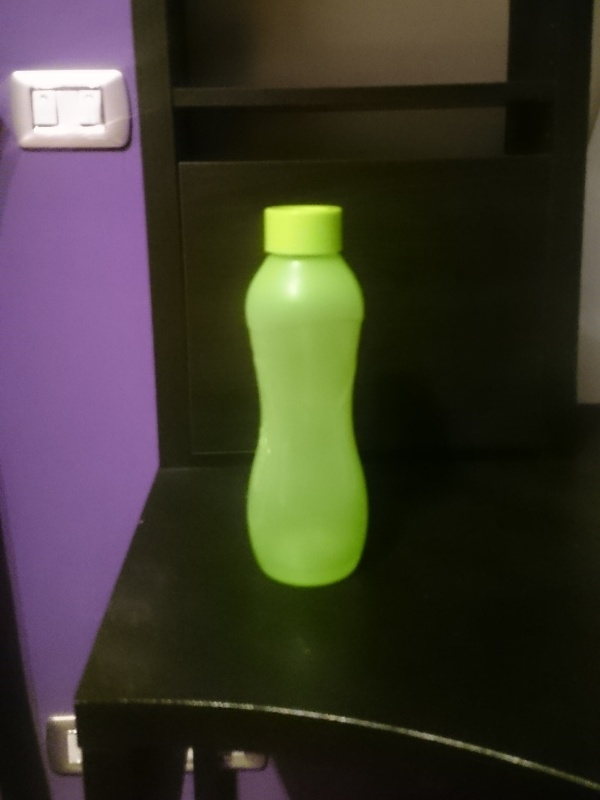my bottle: (245, 199, 368, 588)
